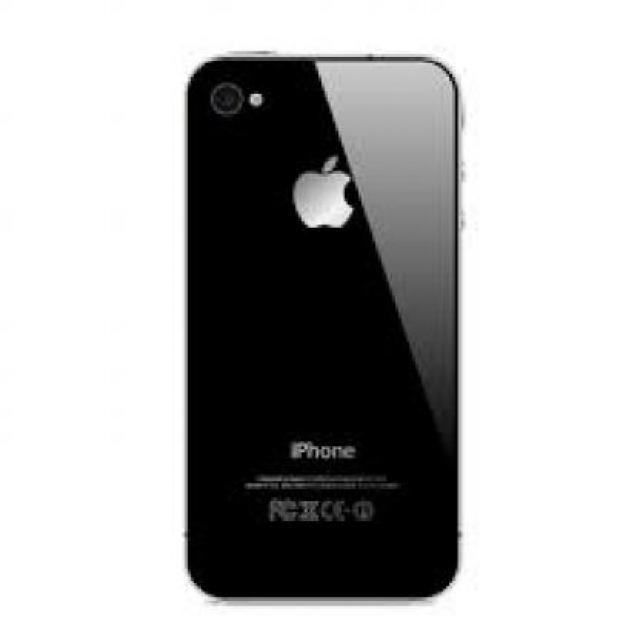phone: (188, 54, 459, 603)
